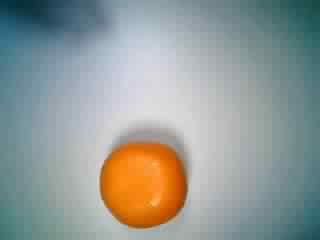orange: (95, 132, 192, 230)
